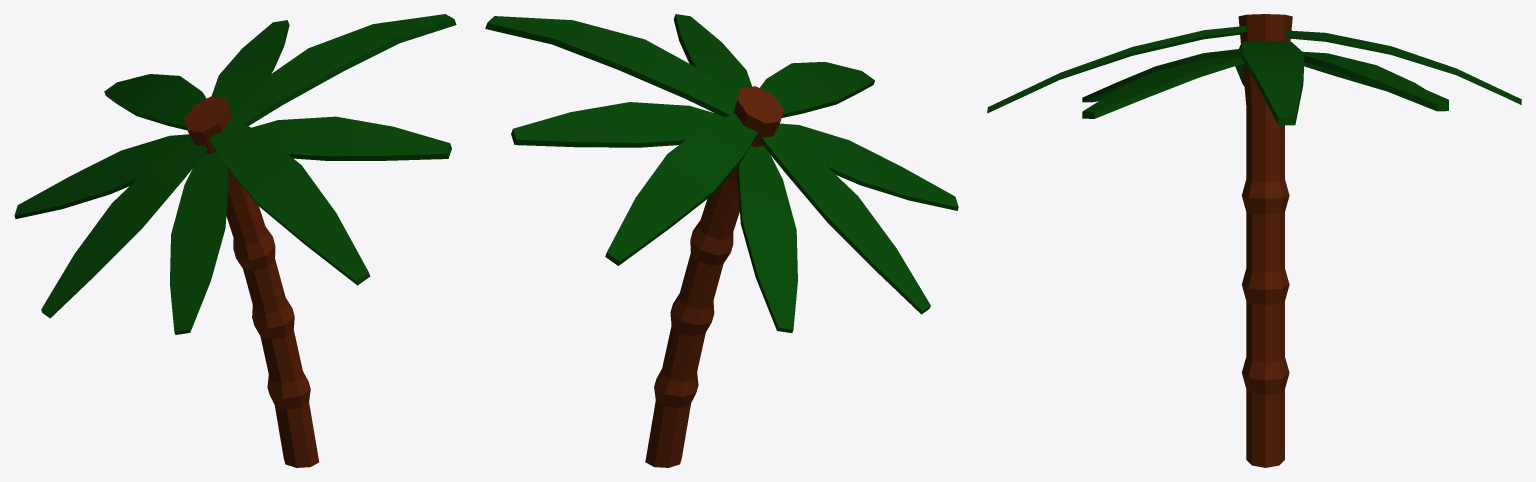
The model's file is 3D_PalmTree.FBX.
3 views of the same model, side by side, from view 1: azimuth 30°, elevation 25°; view 2: azimuth 150°, elevation 25°; view 3: azimuth 270°, elevation 25° (orthographic). The views are drawn at different scales.
Visible parts, largest first — view 1: 3D_PalmTree; view 2: 3D_PalmTree; view 3: 3D_PalmTree.
Part boxes in pixels (left/top/right/bottom): 3D_PalmTree: left=14, top=14, right=456, bottom=467; 3D_PalmTree: left=485, top=14, right=958, bottom=467; 3D_PalmTree: left=987, top=14, right=1521, bottom=467.
Size of the model in its own units: 266 by 276 by 246.
